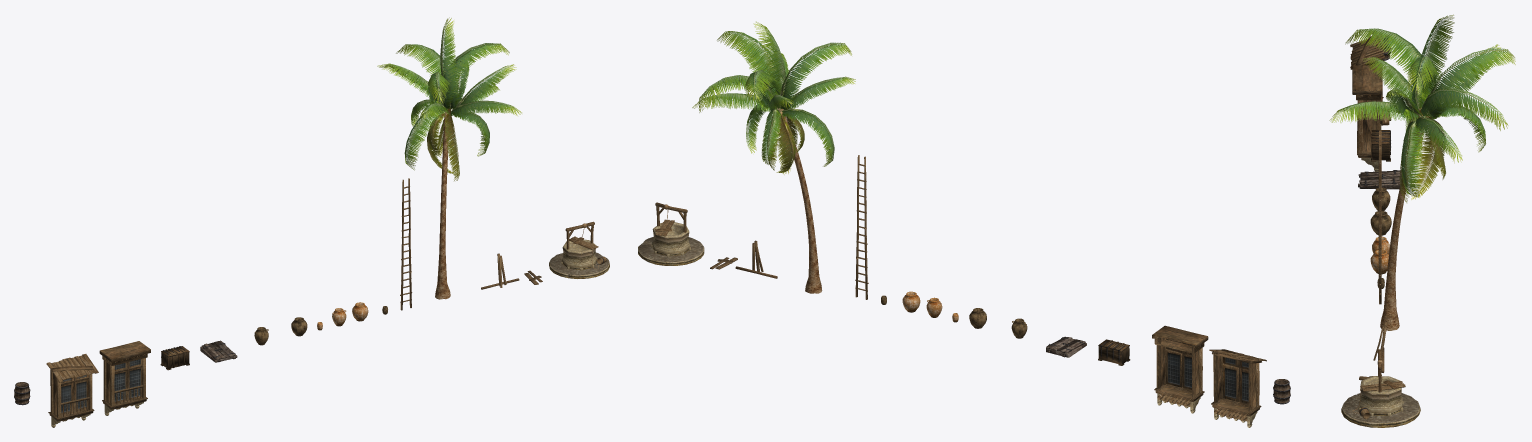
File: oriental_houses_props.obj
3 renders of one model, left to right at view 1: azimuth 30°, elevation 25°; view 2: azimuth 150°, elevation 25°; view 3: azimuth 270°, elevation 25°, orthographic. The views are drawn at different scales.
Parts seen in each view (by area): view 1: oriental_houses_props.obj; view 2: oriental_houses_props.obj; view 3: oriental_houses_props.obj.
Part boxes in pixels (x1=…): oriental_houses_props.obj: x1=14, y1=17, x2=609, y2=427; oriental_houses_props.obj: x1=638, y1=21, x2=1290, y2=427; oriental_houses_props.obj: x1=1329, y1=14, x2=1515, y2=427.
Bounding box in the file's own units: 1085 × 505 × 243.
15 materials, 15 textured.
